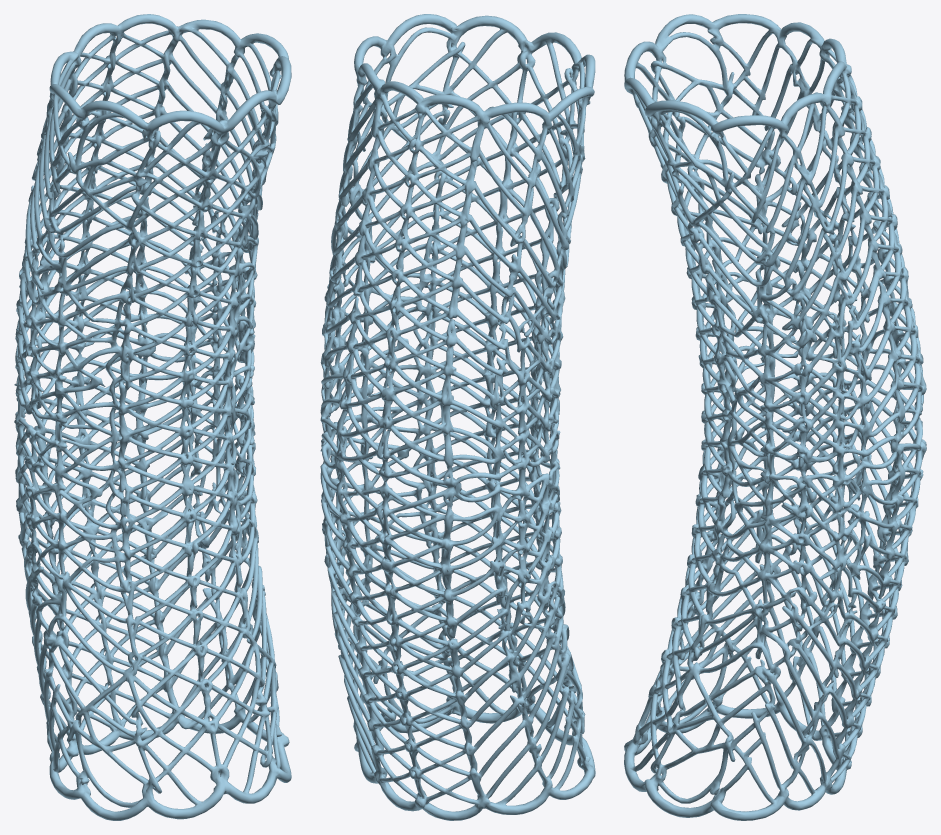
Rendered from ultraflex-woven-uncovered.glb.
3 renders of one model, left to right at view 1: azimuth 30°, elevation 25°; view 2: azimuth 150°, elevation 25°; view 3: azimuth 270°, elevation 25°, orthographic.
Parts seen in each view (by area): view 1: ultraflex-woven-uncovered-01; view 2: ultraflex-woven-uncovered-01; view 3: ultraflex-woven-uncovered-01.
Boxes of the visible parts, <box> form: ultraflex-woven-uncovered-01: <box>14,14,291,820</box>; ultraflex-woven-uncovered-01: <box>320,14,595,820</box>; ultraflex-woven-uncovered-01: <box>624,14,926,820</box>.
Size of the model in its own units: 0.6363 by 2 by 0.7577.
